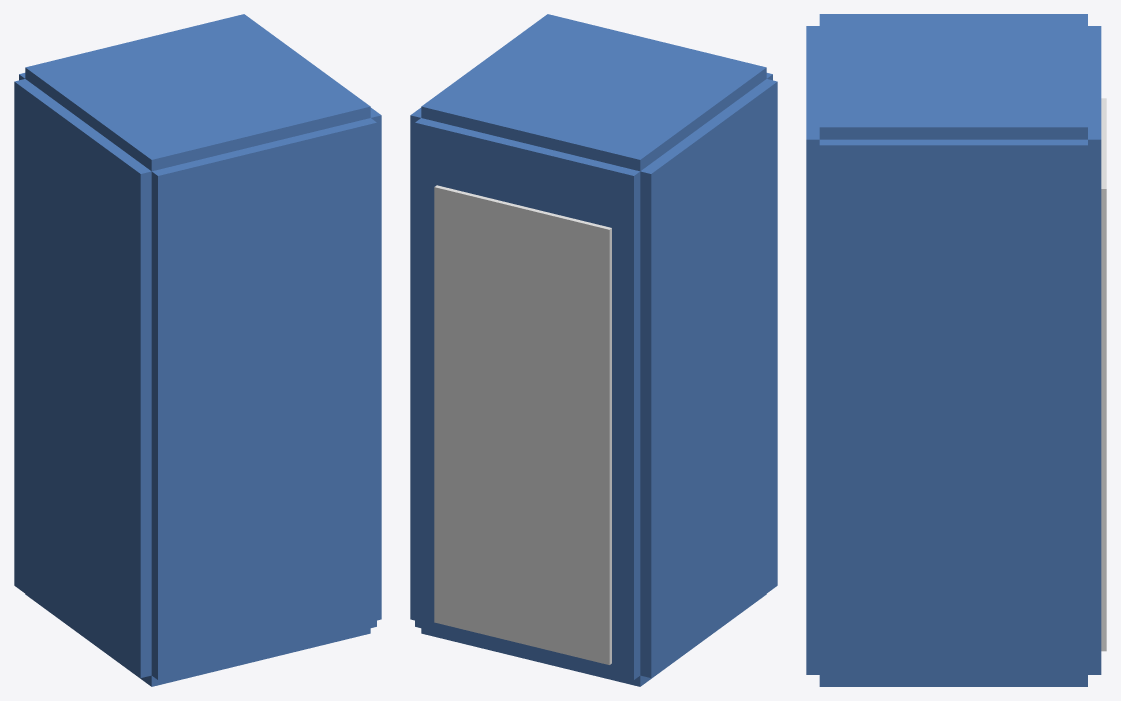
Rendered from porta_potty.glb.
The picture shows the model from 3 angles, left to right: view 1: azimuth 30°, elevation 25°; view 2: azimuth 150°, elevation 25°; view 3: azimuth 270°, elevation 25°; orthographic projection. The views are drawn at different scales.
Visible parts, largest first — view 1: porta_potty; view 2: porta_potty; view 3: porta_potty.
Part boxes in pixels (bbox=[...]): porta_potty: bbox=[14, 14, 381, 686]; porta_potty: bbox=[410, 14, 777, 686]; porta_potty: bbox=[806, 14, 1106, 686].
Size of the model in its own units: 1.1 by 2.3 by 1.12.
